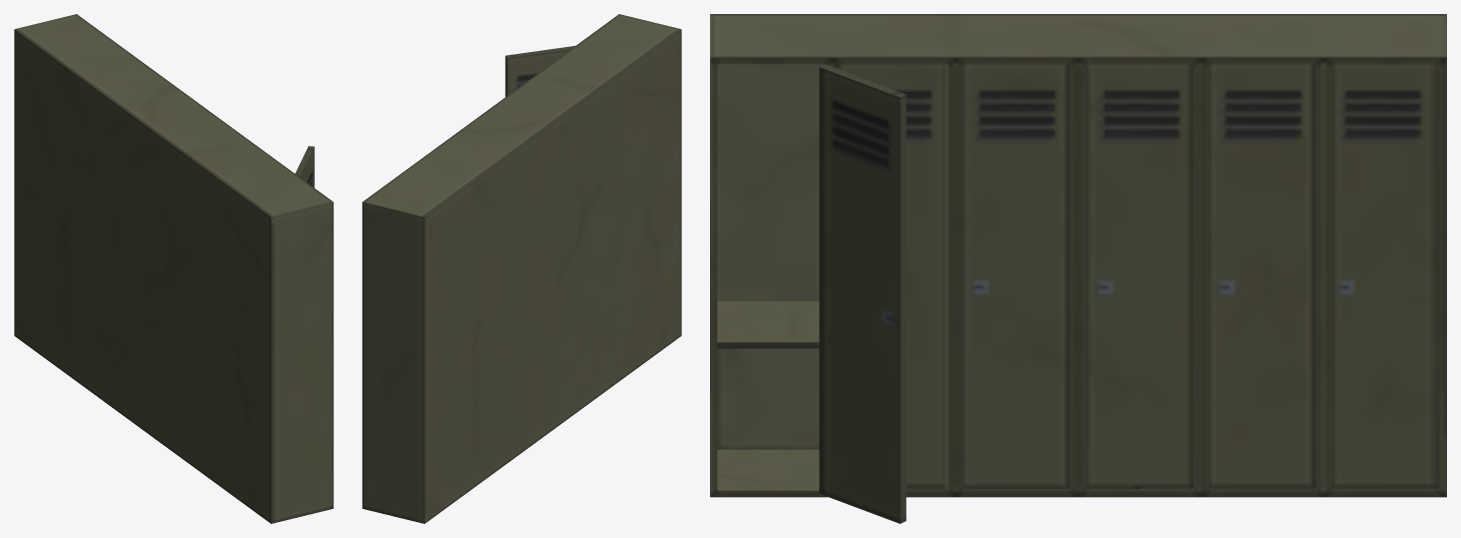
Rendered from lockers_1opened.glb.
3 renders of one model, left to right at view 1: azimuth 30°, elevation 25°; view 2: azimuth 150°, elevation 25°; view 3: azimuth 270°, elevation 25°, orthographic. The views are drawn at different scales.
Visible parts, largest first — view 1: Lockers; view 2: Lockers; view 3: Lockers.
Boxes of the visible parts, <box> form: Lockers: <box>14,14,333,523</box>; Lockers: <box>362,14,681,523</box>; Lockers: <box>710,14,1446,523</box>.
Size of the model in its own units: 0.7406 by 1.98 by 3.
1 material, 1 textured.
